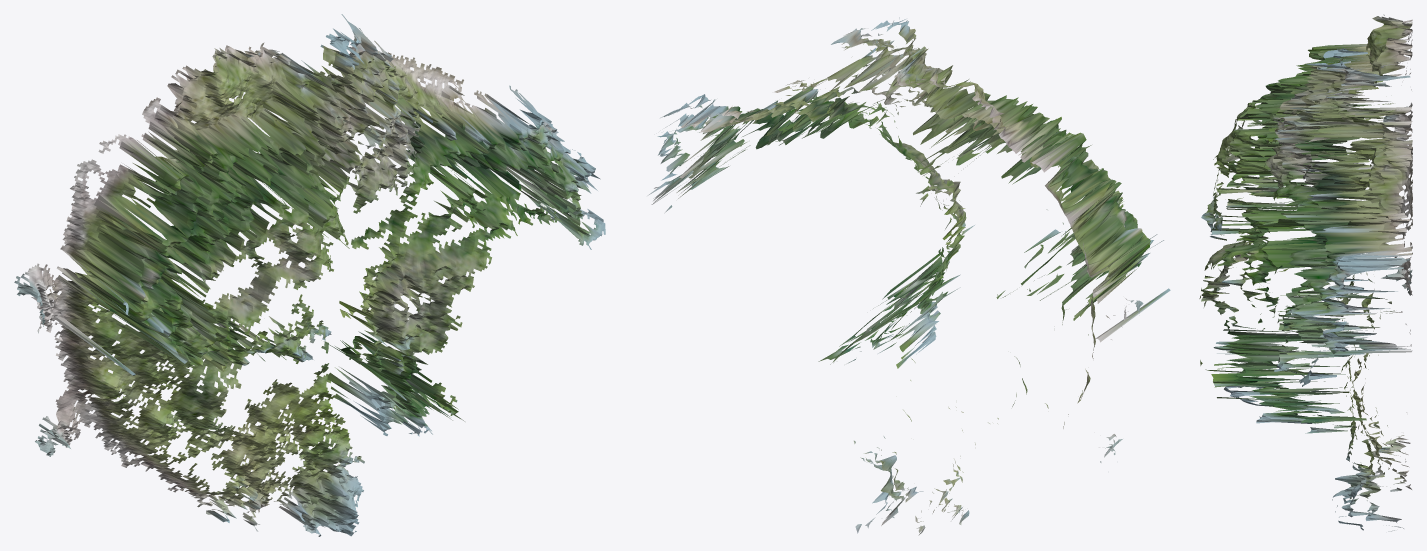
Rendered from lalu_island.glb.
The picture shows the model from 3 angles, left to right: view 1: azimuth 30°, elevation 25°; view 2: azimuth 150°, elevation 25°; view 3: azimuth 270°, elevation 25°; orthographic projection. The views are drawn at different scales.
Parts seen in each view (by area): view 1: world; view 2: world; view 3: world.
Boxes of the visible parts, bbox=[...] form: world: bbox=[14, 14, 605, 536]; world: bbox=[647, 17, 1170, 535]; world: bbox=[1199, 14, 1412, 531].
Bounding box in the file's own units: 22.51 × 20.61 × 8.19.
